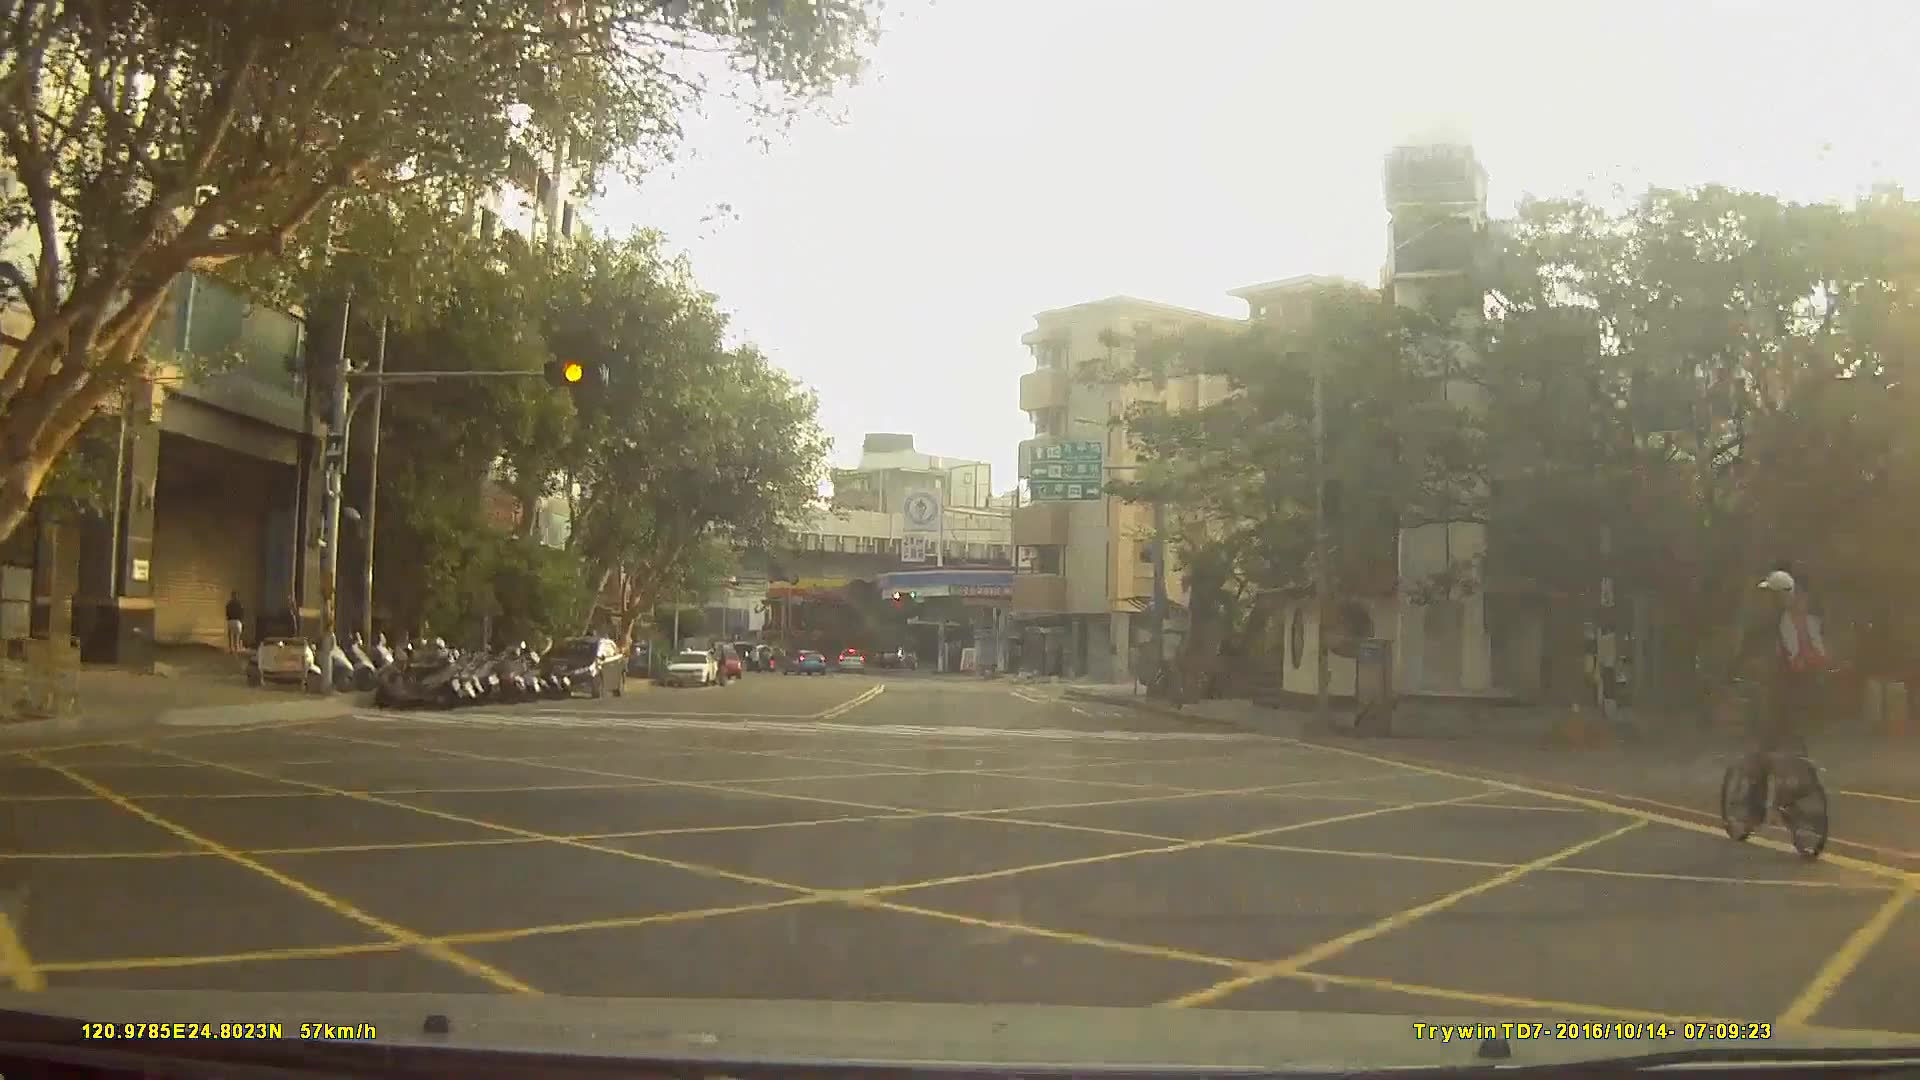pedestrian: (226, 584, 247, 654)
rider: (1715, 571, 1839, 860)
vehicle: (535, 633, 624, 697), (662, 645, 716, 684), (700, 644, 743, 680), (783, 646, 823, 675), (835, 643, 865, 671)
